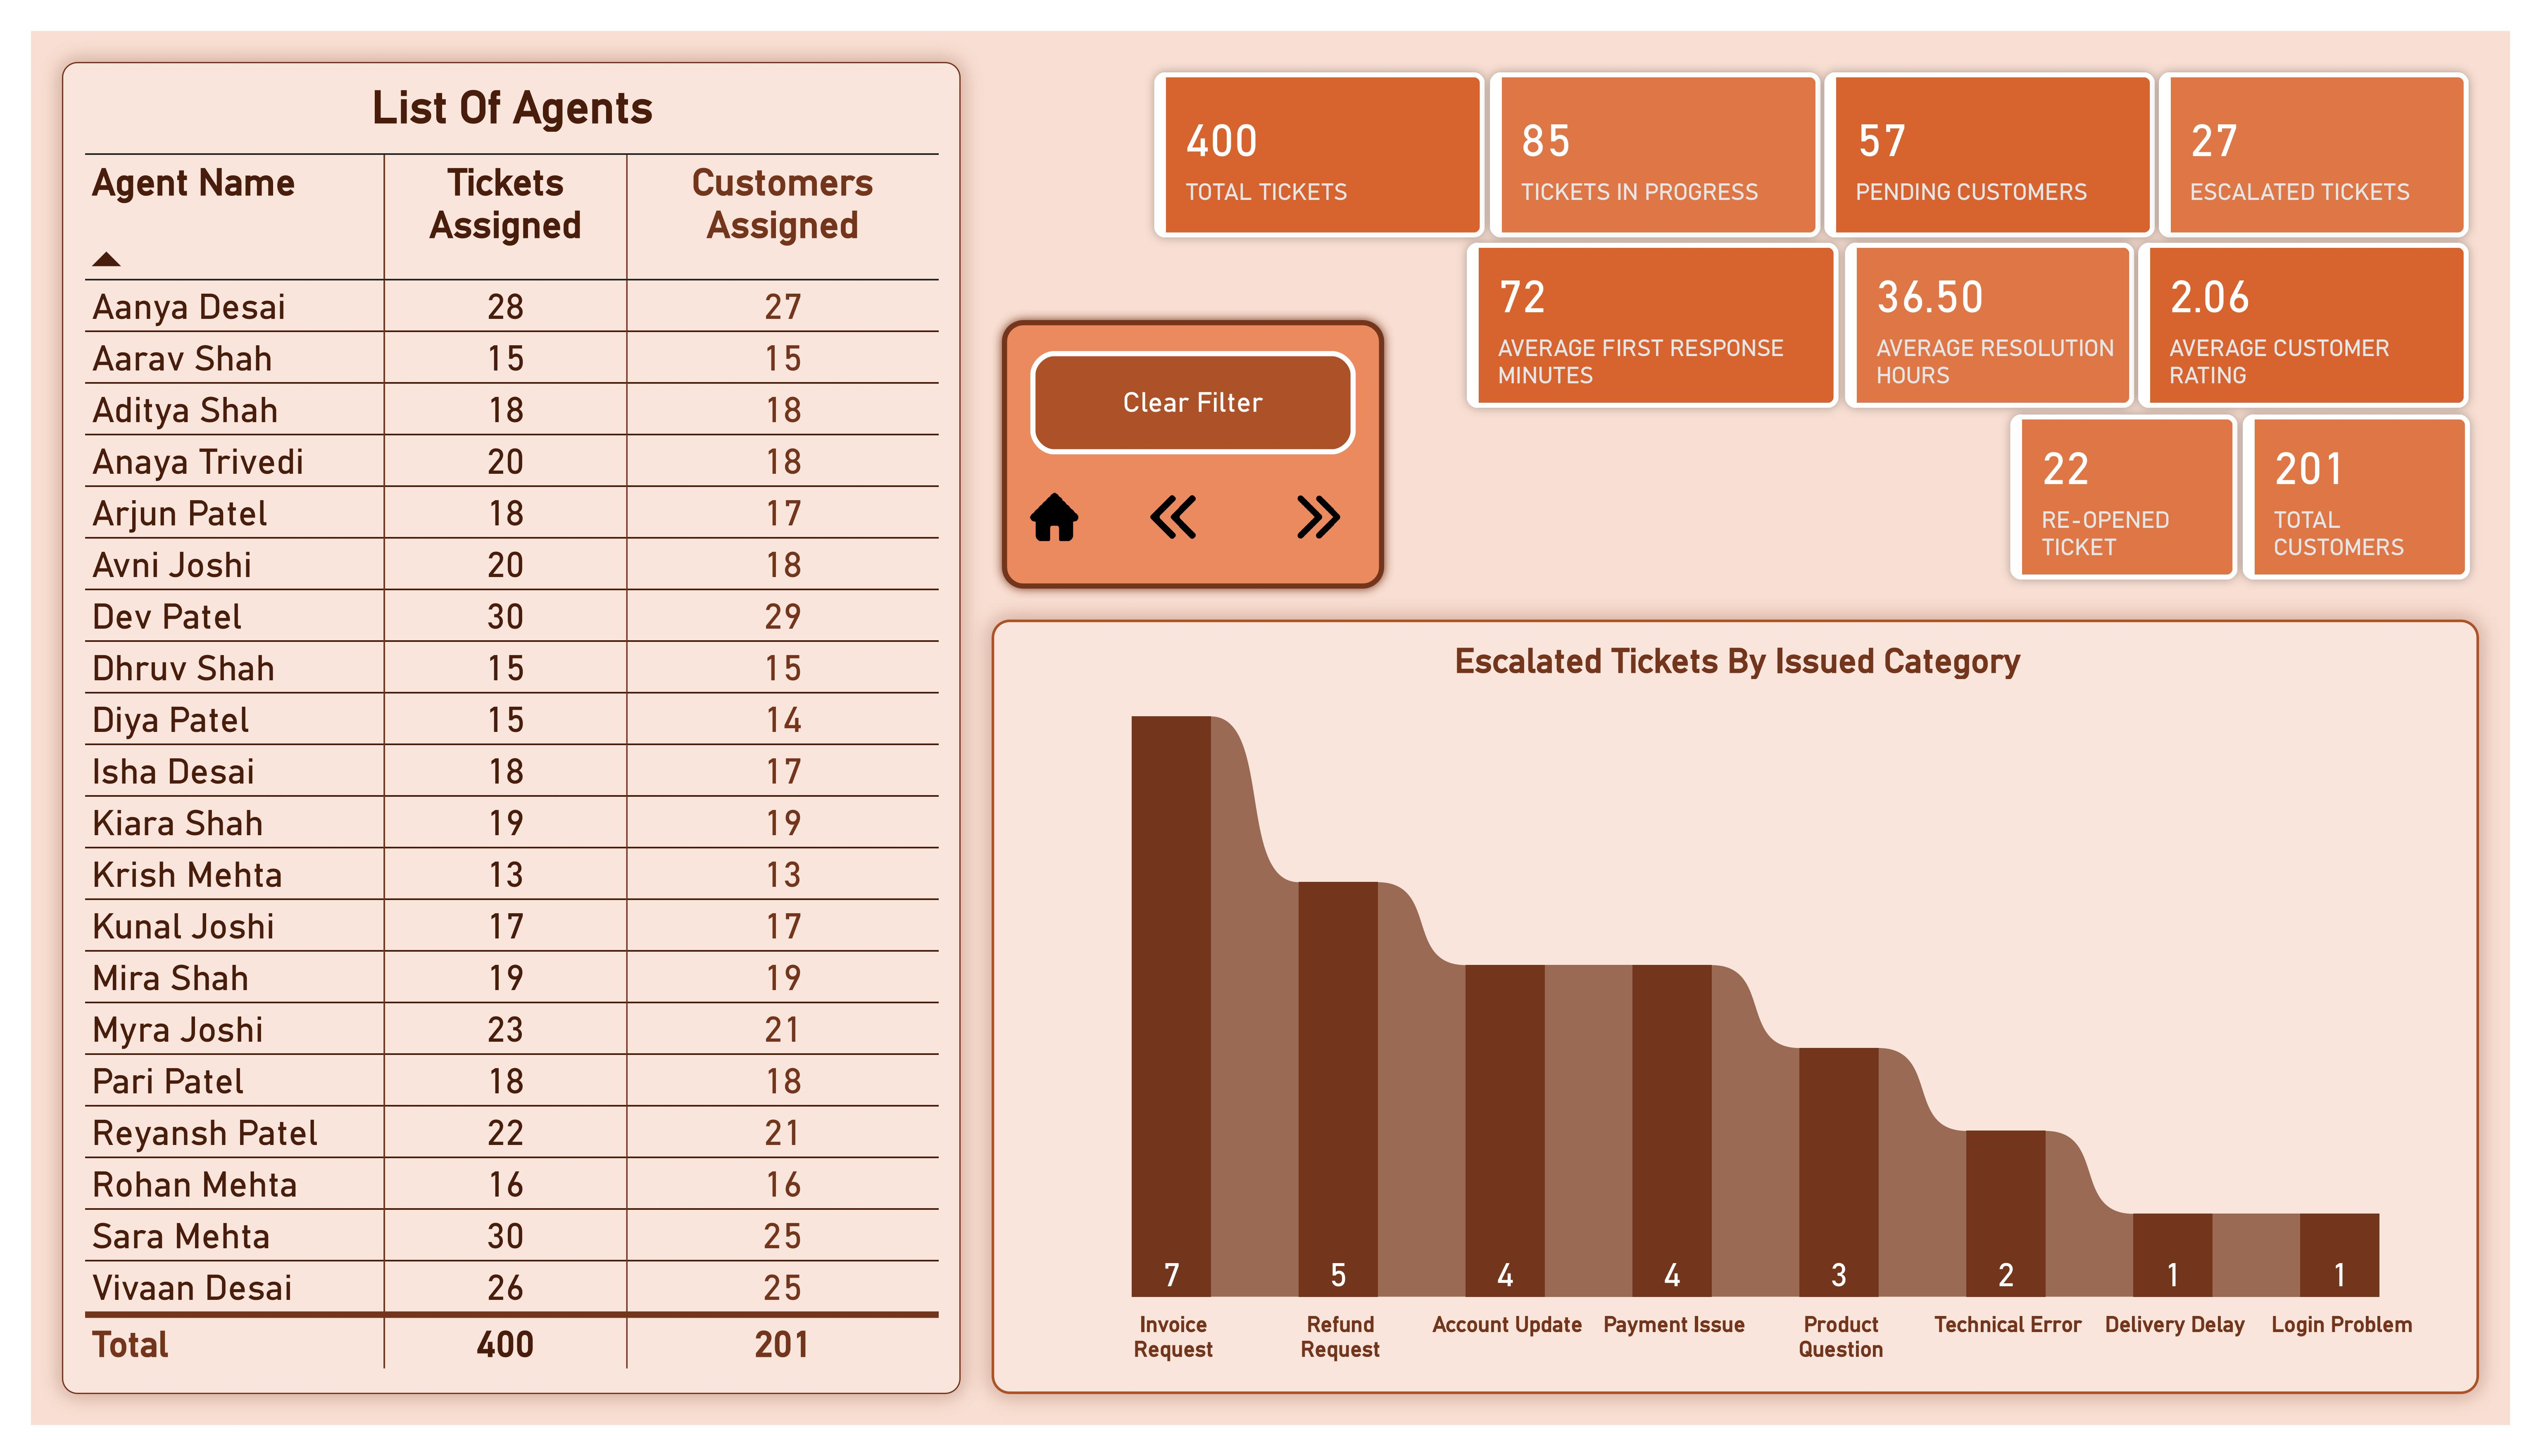

What the dashboard file says about the page in this screenshot:
{"tool":"powerbi","page":{"name":"Page 4","canvas":[1920,1080],"ordinal":3},"visuals":[{"type":"cardVisual","fields":{"Data":["_measure.TOTAL TICKETS"]},"box":[854,16,288,160],"z":0},{"type":"shape","box":[744,216,312,224],"z":0,"group":"g1"},{"type":"cardVisual","fields":{"Data":["_measure.TICKETS IN PROGRESS"]},"box":[1114,16,288,160],"z":1000},{"type":"image","box":[773.7,344,37.1,64],"z":1000,"group":"g2"},{"type":"cardVisual","fields":{"Data":["_measure.PENDING CUSTOMERS"]},"box":[1373,16,288,160],"z":2000},{"type":"cardVisual","fields":{"Data":["_measure.ESCALATED TICKETS"]},"box":[1632,16,272,160],"z":3000},{"type":"actionButton","box":[773.7,248,252.6,80],"z":3000,"group":"g1"},{"type":"image","box":[968.5,344,57.7,64],"z":3000,"group":"g3"},{"type":"cardVisual","fields":{"Data":["_measure.AVERAGE 1st RESPONSE MINUTES"]},"box":[1120,148,288,160],"z":4000},{"type":"image","box":[862.8,352,43.3,48],"z":4000,"group":"g3"},{"type":"cardVisual","fields":{"Data":["_measure.AVERAGE RESOLUTION HOURS"]},"box":[1376,148,272,160],"z":5000},{"type":"cardVisual","fields":{"Data":["_measure.AVERAGE CUSTOMER RATING"]},"box":[1616,148,288,160],"z":6000},{"type":"cardVisual","fields":{"Data":["_measure.RE-OPENED TICKET"]},"box":[1517,281,208,160],"z":7000},{"type":"cardVisual","fields":{"Data":["_measure.TOTAL CUSTOMERS"]},"box":[1697,281,208,160],"z":8000},{"type":"columnChart","title":"Escalated Tickets By Issued Category","fields":{"Category":["Customer_Support_Tickets.Issue_Category"],"Y":["_measure.ESCALATED TICKETS"]},"box":[744,456,1152,600],"z":9000},{"type":"tableEx","title":"List Of Agents","fields":{"Values":["Customer_Support_Tickets.Agent_Name","_measure.TOTAL TICKETS","_measure.TOTAL CUSTOMERS"]},"box":[24,24,696,1032],"z":10000},{"type":"group","id":"g1","title":"Group 3","box":[744,216,312,216],"z":11000},{"type":"group","id":"g2","title":"Group 2","box":[773.7,344,252.6,64],"z":14000,"group":"g1"},{"type":"group","id":"g3","title":"Group 1","box":[862.8,344,163.4,64],"z":23001,"group":"g2"}]}

Visuals, with their boxes on the page's 1920x1080 design canvas (x1, y1, x2, y2). These are canvas units, not pixel positions in the 2541x1456 screenshot, which may show the page scaled, cropped or inside an application window:
cardVisual - _measure.TOTAL TICKETS: 854,16,1142,176
shape: 744,216,1056,440
cardVisual - _measure.TICKETS IN PROGRESS: 1114,16,1402,176
image: 774,344,811,408
cardVisual - _measure.PENDING CUSTOMERS: 1373,16,1661,176
cardVisual - _measure.ESCALATED TICKETS: 1632,16,1904,176
actionButton: 774,248,1026,328
image: 968,344,1026,408
cardVisual - _measure.AVERAGE 1st RESPONSE MINUTES: 1120,148,1408,308
image: 863,352,906,400
cardVisual - _measure.AVERAGE RESOLUTION HOURS: 1376,148,1648,308
cardVisual - _measure.AVERAGE CUSTOMER RATING: 1616,148,1904,308
cardVisual - _measure.RE-OPENED TICKET: 1517,281,1725,441
cardVisual - _measure.TOTAL CUSTOMERS: 1697,281,1905,441
"Escalated Tickets By Issued Category" columnChart: 744,456,1896,1056
"List Of Agents" tableEx: 24,24,720,1056
"Group 3" group: 744,216,1056,432
"Group 2" group: 774,344,1026,408
"Group 1" group: 863,344,1026,408
